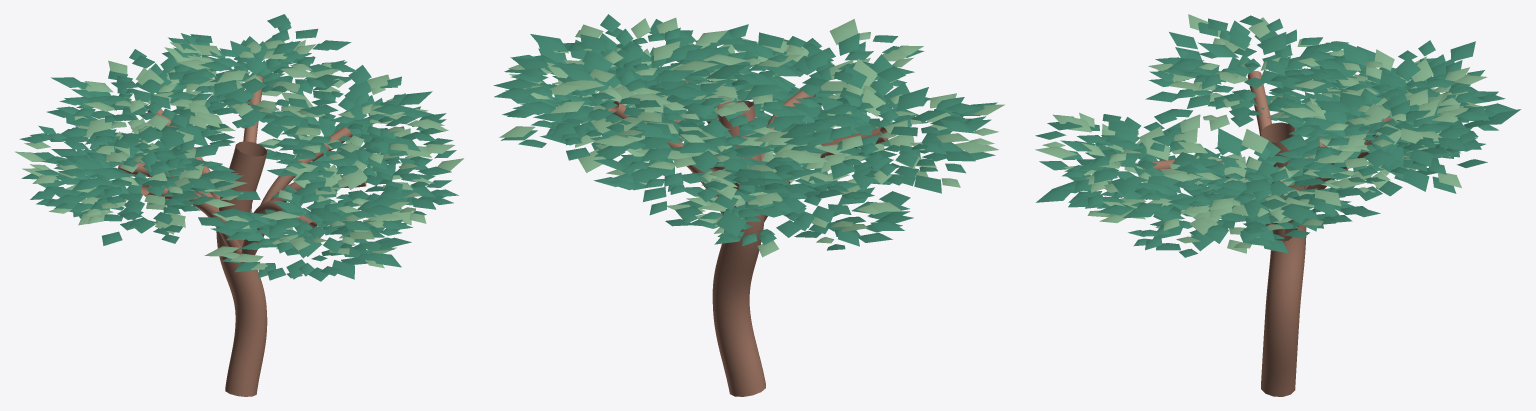
Rendered from oasis_tree.glb.
The picture shows the model from 3 angles, left to right: view 1: azimuth 30°, elevation 25°; view 2: azimuth 150°, elevation 25°; view 3: azimuth 270°, elevation 25°; orthographic projection. The views are drawn at different scales.
Visible parts, largest first — view 1: Individual canopy leaf.001, Individual canopy leaf, Twisting trunk; view 2: Individual canopy leaf.001, Individual canopy leaf, Twisting trunk; view 3: Individual canopy leaf.001, Individual canopy leaf, Twisting trunk.
Part boxes in pixels (left/top/right/bottom): Individual canopy leaf.001: left=19, top=14, right=458, bottom=281; Individual canopy leaf: left=15, top=40, right=463, bottom=269; Twisting trunk: left=118, top=76, right=366, bottom=396; Individual canopy leaf.001: left=493, top=14, right=997, bottom=250; Individual canopy leaf: left=499, top=17, right=1004, bottom=257; Twisting trunk: left=608, top=78, right=888, bottom=396; Individual canopy leaf.001: left=1035, top=15, right=1521, bottom=257; Individual canopy leaf: left=1035, top=14, right=1487, bottom=253; Twisting trunk: left=1143, top=71, right=1392, bottom=396.
Bounding box in the file's own units: 4.36 × 3.13 × 4.42.
